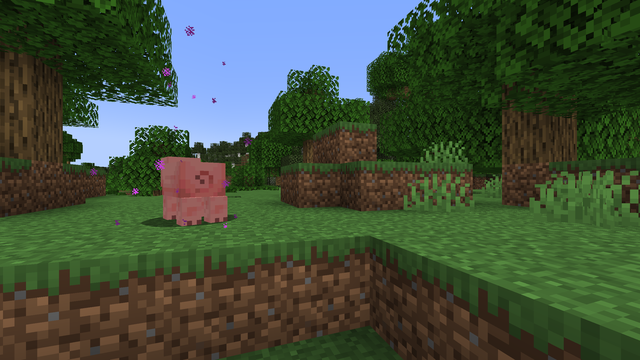cochons: (151, 159, 222, 225)
